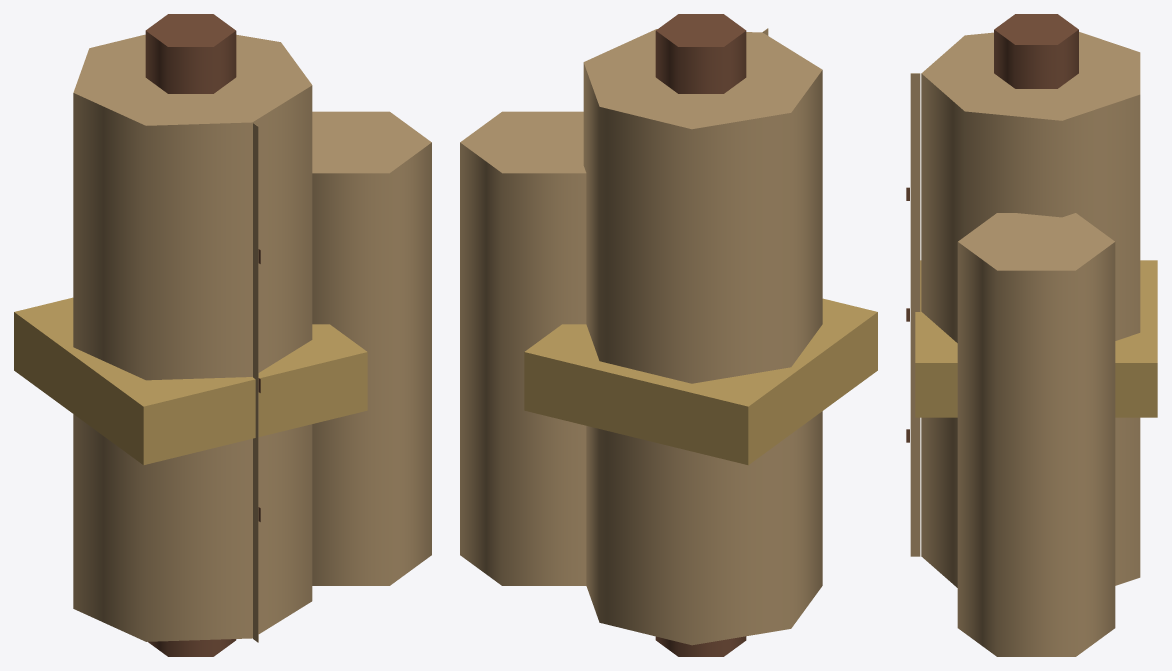
File: scroll-2-lod1.glb
3 renders of one model, left to right at view 1: azimuth 30°, elevation 25°; view 2: azimuth 150°, elevation 25°; view 3: azimuth 270°, elevation 25°, orthographic. The views are drawn at different scales.
Visible parts, largest first — view 1: piece_whole, ReadingSheet; view 2: piece_whole; view 3: piece_whole, ReadingSheet.
Boxes of the visible parts, x1=… form: piece_whole: x1=14, y1=14, x2=431, y2=656; ReadingSheet: x1=253, y1=123, x2=260, y2=642; piece_whole: x1=460, y1=14, x2=877, y2=656; piece_whole: x1=915, y1=14, x2=1157, y2=656; ReadingSheet: x1=906, y1=73, x2=920, y2=556.
Size of the model in its own units: 0.2963 by 0.52 by 0.2075.
